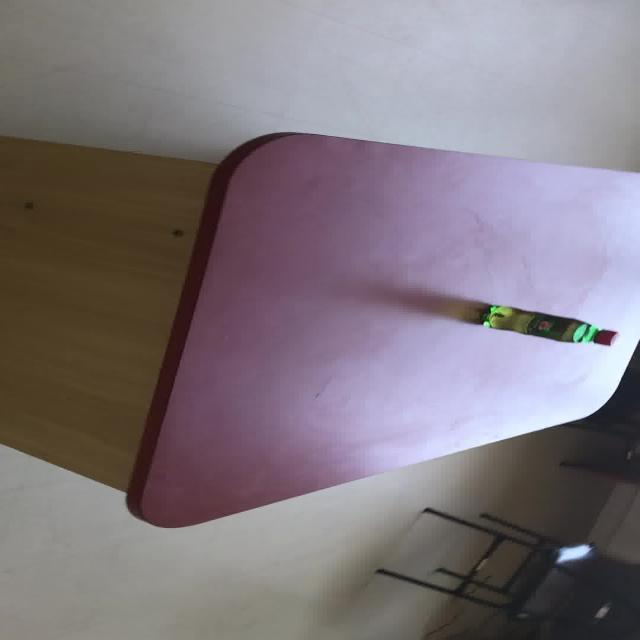guarana: (477, 303, 618, 346)
